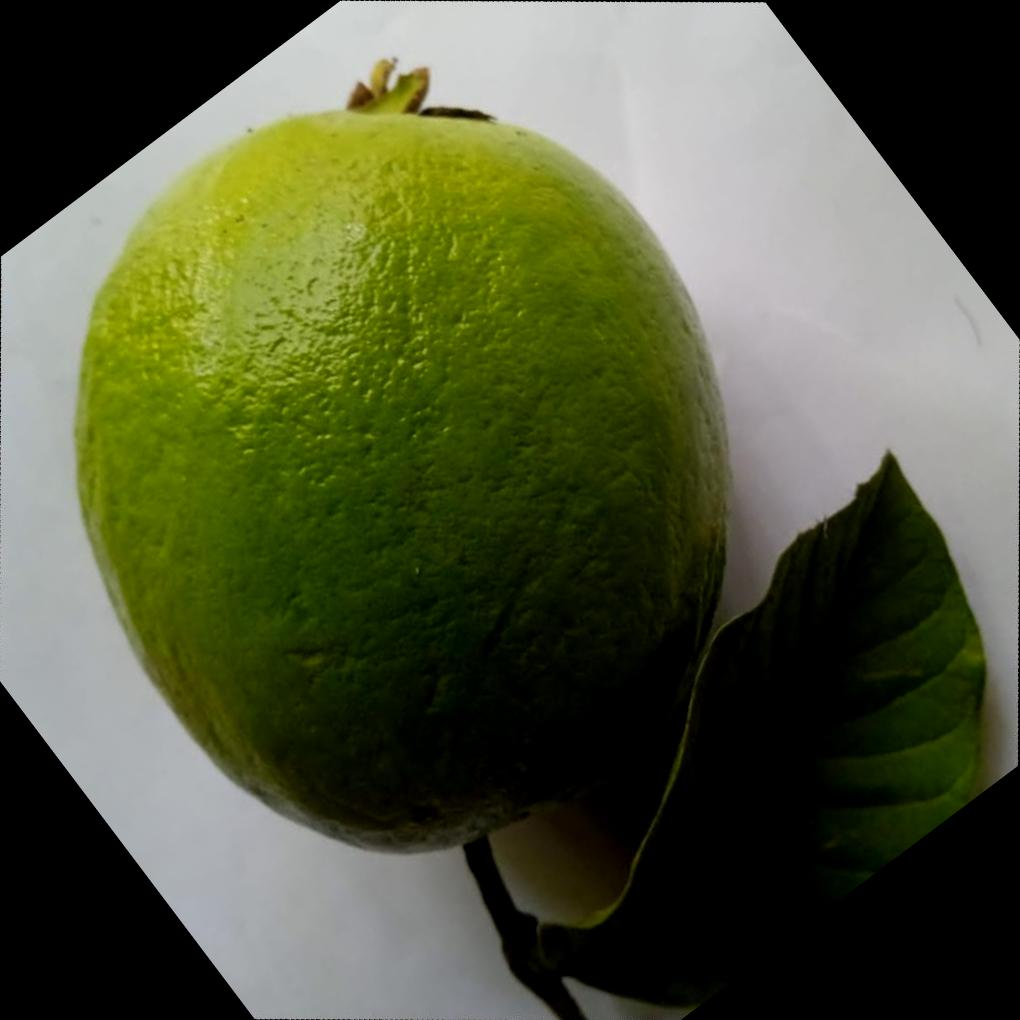FreshGuava: (74, 74, 734, 855)
